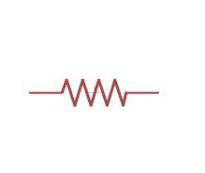resistor: (52, 76, 143, 107)
